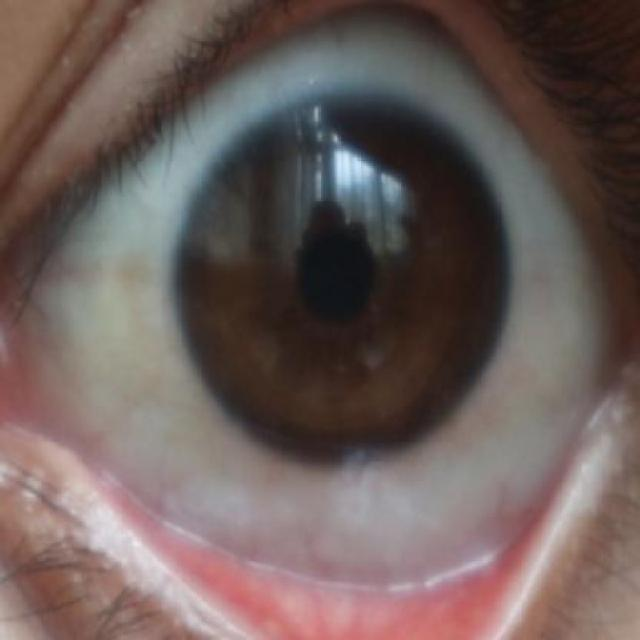Normal: (168, 87, 510, 466)
